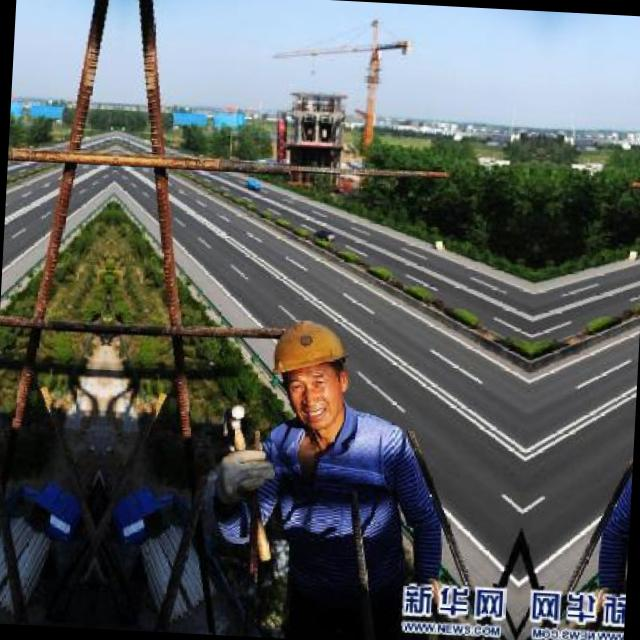helmet: (260, 310, 360, 434)
